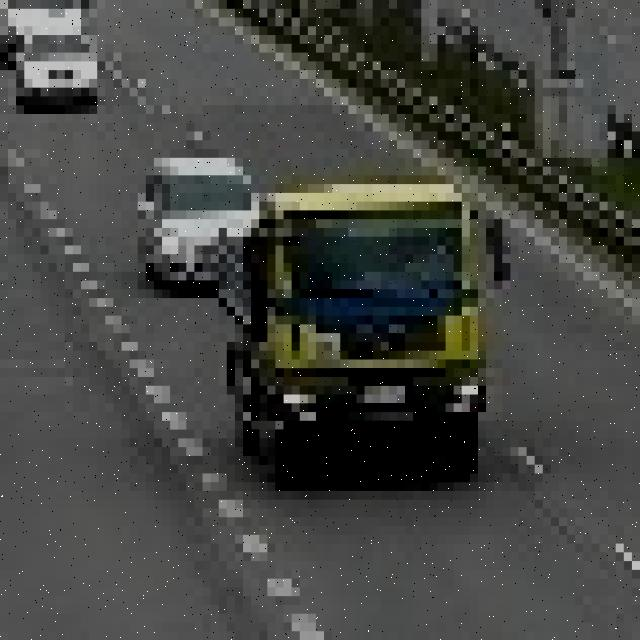truck: (235, 166, 527, 474)
